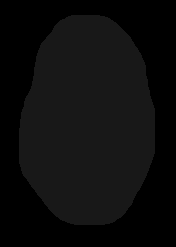fp: (15, 8, 161, 232)
